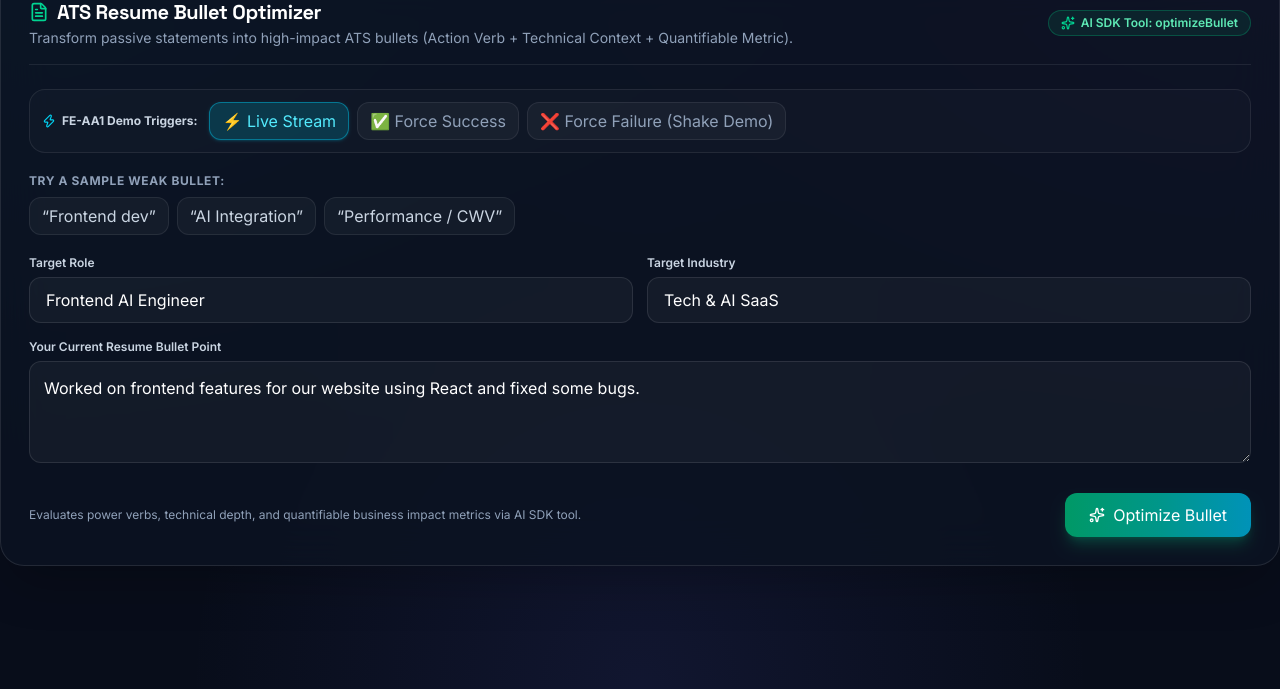
Test: ResumeOptimizer Component (FE-07 AI SDK Tool Flow) › processes NDJSON stream and renders input-streaming, input-available, and output-available states
The width and height of the screenshot is (1280, 689).
Click the button "Optimize Bullet". click: (1158, 515)
box: [1065, 493, 1251, 537]
(page scrolled)
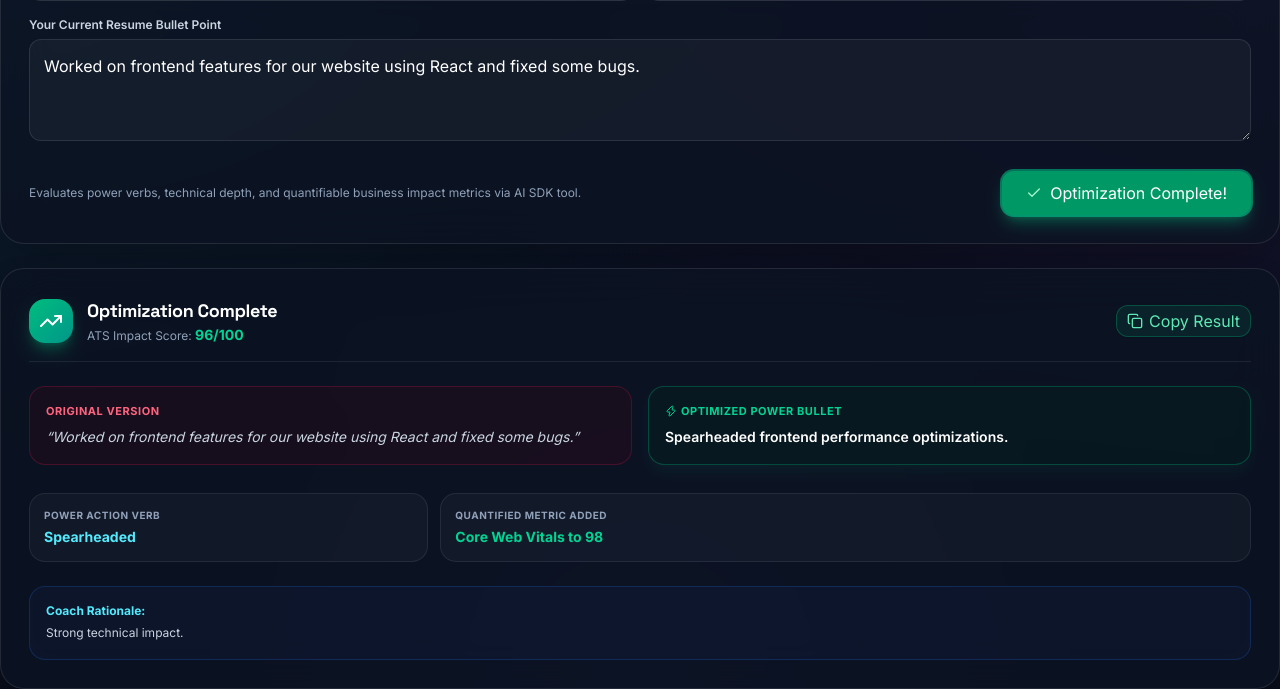
Expected: the element with test id "tool-state-output-available" is shown
Expected: the text "Spearheaded frontend performance optimizations." is shown, [665, 428, 1008, 444]
